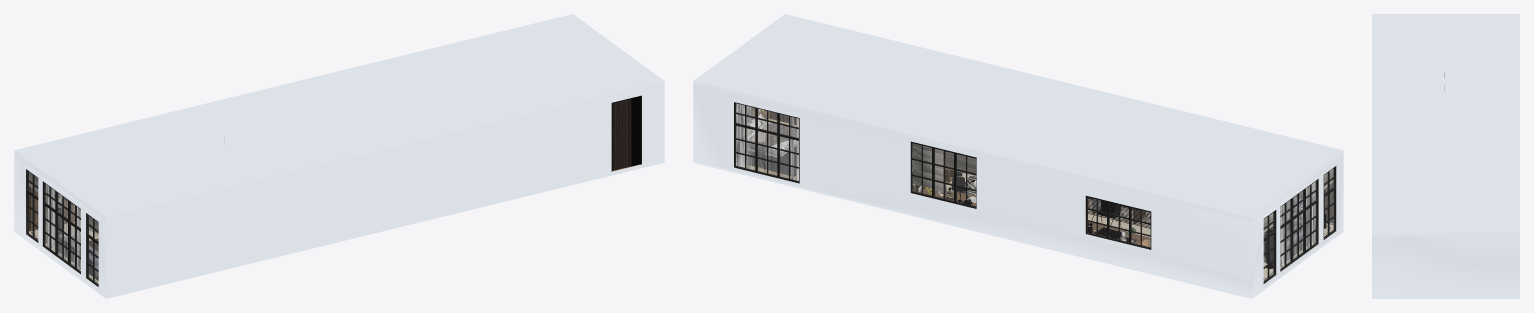
Rendered from apt-indiranagar.glb.
3 views of the same model, side by side, from view 1: azimuth 30°, elevation 25°; view 2: azimuth 150°, elevation 25°; view 3: azimuth 270°, elevation 25° (orthographic). The views are drawn at different scales.
Parts seen in each view (by area): view 1: Plane.002_Black.001_0, Windows_Window_Frame_0, Windows_Glass_0, EnteranceDoor_Wood0035_0, Door.001_Black_0, Apple Adaptor_White1_0, Curtatins__97.001_0, BedroomWardrobes_Wood049_0, CouchSet_Material_1_0; view 2: Plane.002_Black.001_0, Windows_Glass_0, Windows_Window_Frame_0, Curtatins__97.001_0, Apple Adaptor_White1_0, Zebra Curtains_tecido_0, BathroomFurnitures_Black_0, Plane.002_Marble 015_0, BedroomRug_Fabrics0070.001_0, Plane.002_SprayedWallTexture_0, BedroomWardrobes_Wood049_0, Bed_Plain_Grey_Texture_2669056_20cm.001_0 (+1 smaller); view 3: Plane.002_Black.001_0.
Boxes of the visible parts, bbox=[...] form: Plane.002_Black.001_0: bbox=[14, 14, 664, 298]; Windows_Window_Frame_0: bbox=[26, 169, 98, 286]; Windows_Glass_0: bbox=[29, 173, 97, 283]; EnteranceDoor_Wood0035_0: bbox=[612, 99, 631, 170]; Door.001_Black_0: bbox=[611, 95, 641, 171]; Apple Adaptor_White1_0: bbox=[45, 137, 224, 270]; Curtatins__97.001_0: bbox=[54, 191, 74, 264]; BedroomWardrobes_Wood049_0: bbox=[29, 186, 74, 230]; CouchSet_Material_1_0: bbox=[58, 234, 98, 277]; Plane.002_Black.001_0: bbox=[693, 14, 1343, 298]; Windows_Glass_0: bbox=[736, 104, 1333, 280]; Windows_Window_Frame_0: bbox=[734, 102, 1335, 283]; Curtatins__97.001_0: bbox=[746, 106, 1309, 263]; Apple Adaptor_White1_0: bbox=[736, 103, 1315, 267]; Zebra Curtains_tecido_0: bbox=[912, 143, 1333, 232]; BathroomFurnitures_Black_0: bbox=[947, 180, 1331, 279]; Plane.002_Marble 015_0: bbox=[946, 173, 1333, 280]; BedroomRug_Fabrics0070.001_0: bbox=[748, 146, 1273, 264]; Plane.002_SprayedWallTexture_0: bbox=[734, 142, 1336, 283]; BedroomWardrobes_Wood049_0: bbox=[751, 107, 1150, 247]; Bed_Plain_Grey_Texture_2669056_20cm.001_0: bbox=[747, 108, 796, 157]; Plane.002_Black.001_0: bbox=[1372, 14, 1519, 298].
Size of the model in its own units: 24.44 by 3.71 by 6.96.
93 materials, 62 textured.
